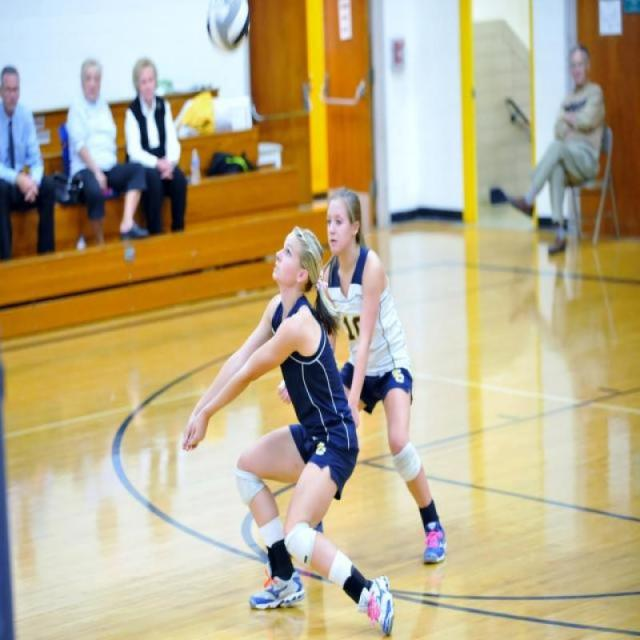volleyball: (205, 0, 253, 55)
